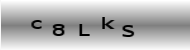8: (51, 23, 65, 36)
L: (77, 23, 91, 37)
c: (30, 20, 43, 30)
k: (100, 15, 115, 30)
s: (121, 23, 135, 37)
